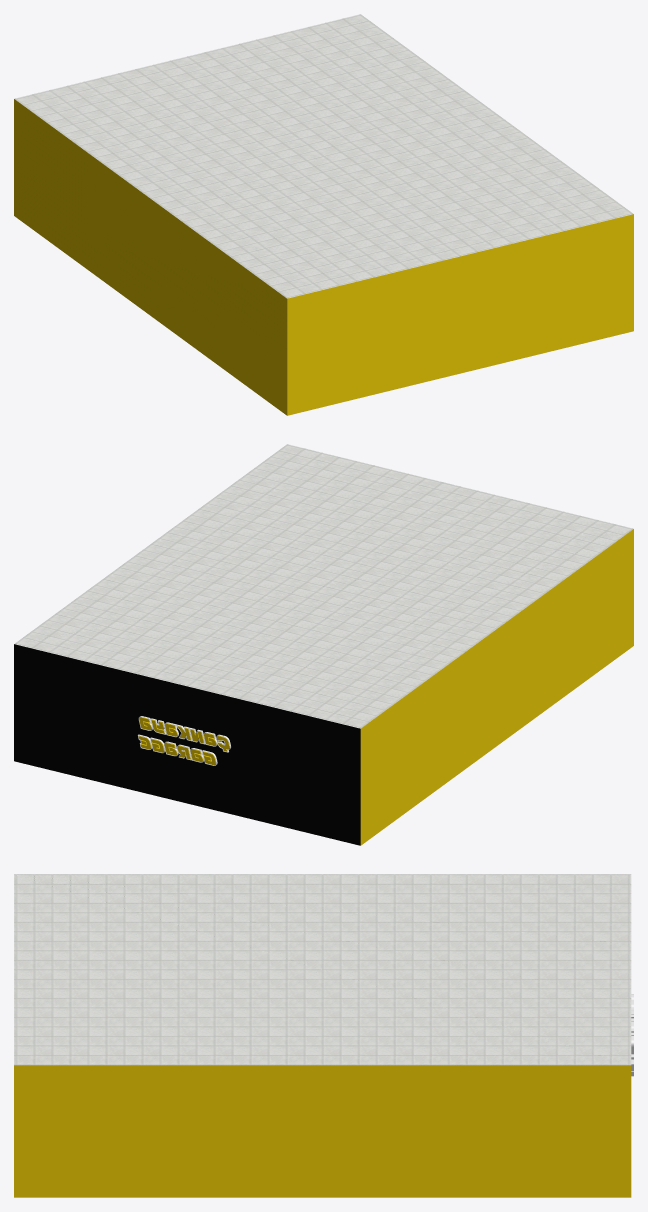
Rendered from Garage.fbx.
The picture shows the model from 3 angles, top to bottom: view 1: azimuth 30°, elevation 25°; view 2: azimuth 150°, elevation 25°; view 3: azimuth 270°, elevation 25°; orthographic projection. The views are drawn at different scales.
Parts seen in each view (by area): view 1: garage; view 2: garage, CankayaText; view 3: garage.
Boxes of the visible parts, x1=… form: garage: x1=14, y1=14, x2=633, y2=415; garage: x1=14, y1=444, x2=633, y2=845; CankayaText: x1=137, y1=716, x2=230, y2=765; garage: x1=14, y1=874, x2=631, y2=1197.
Size of the model in its own units: 1883 by 623 by 2581.
5 materials, 5 textured.
